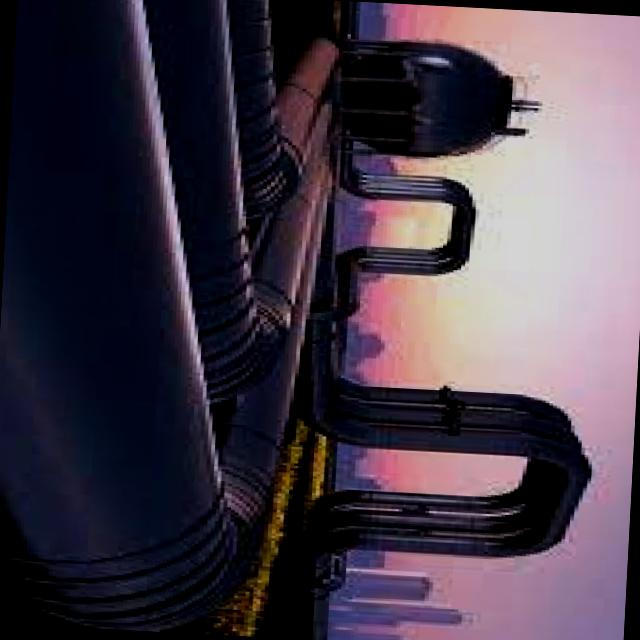gas: (0, 0, 255, 631), (302, 165, 589, 558), (145, 0, 287, 403), (314, 379, 589, 557), (210, 301, 304, 529), (228, 0, 299, 219)
